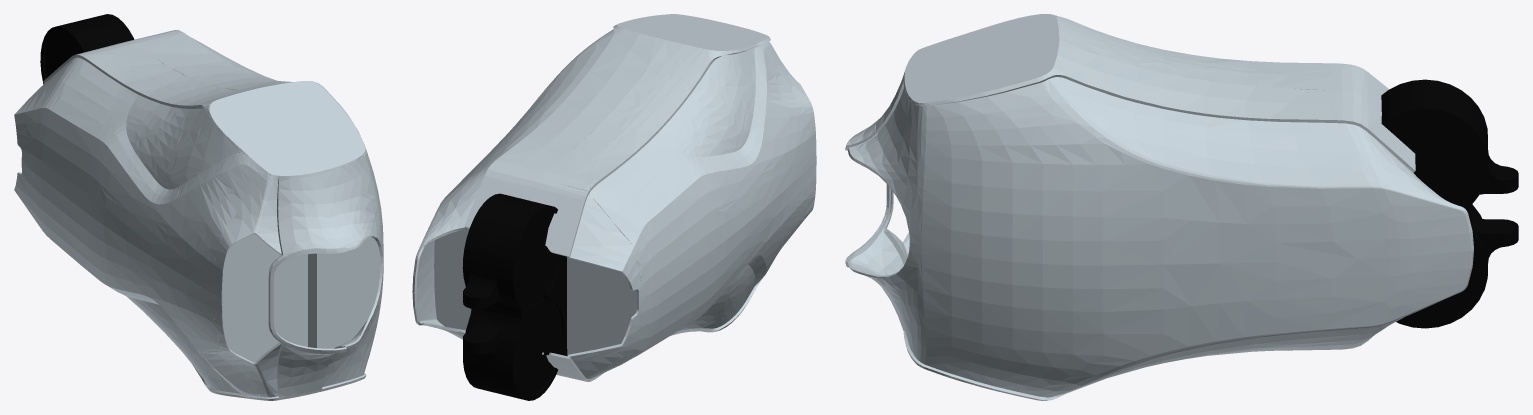
The model's file is torso_link.dae.
3 views of the same model, side by side, from view 1: azimuth 30°, elevation 25°; view 2: azimuth 150°, elevation 25°; view 3: azimuth 270°, elevation 25° (orthographic). The views are drawn at different scales.
Visible parts, largest first — view 1: torso_link; view 2: torso_link; view 3: torso_link.
Part boxes in pixels (bbox=[...]): torso_link: bbox=[14, 14, 383, 400]; torso_link: bbox=[412, 14, 816, 400]; torso_link: bbox=[845, 14, 1518, 400].
Bounding box in the file's own units: 0.1959 × 0.255 × 0.467.
